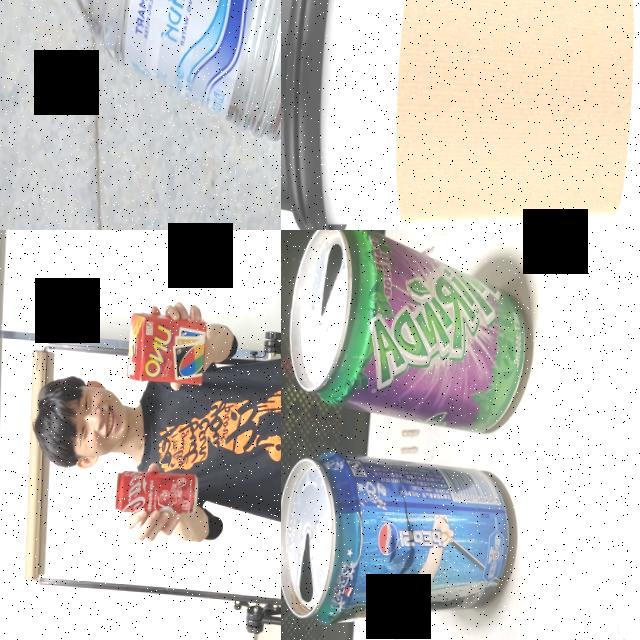bottle: (0, 0, 281, 230)
can: (281, 230, 541, 442), (281, 442, 523, 635), (114, 468, 200, 518)
cup: (281, 0, 640, 230)
